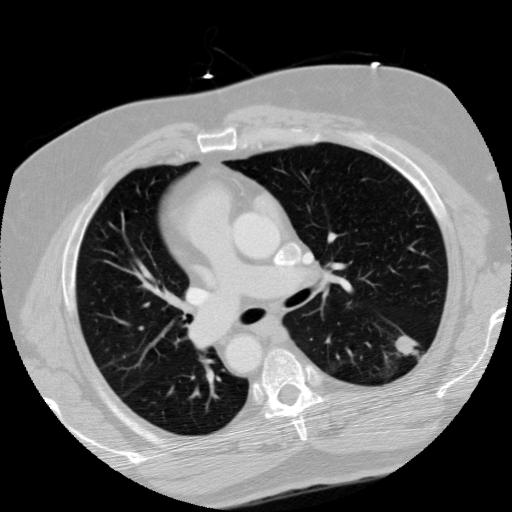nodule: (395, 331, 423, 359)
